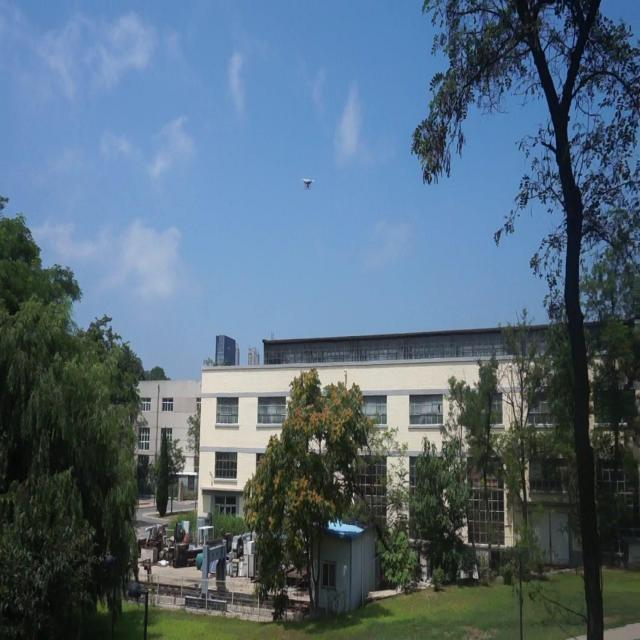UAV: (302, 179, 314, 190)
